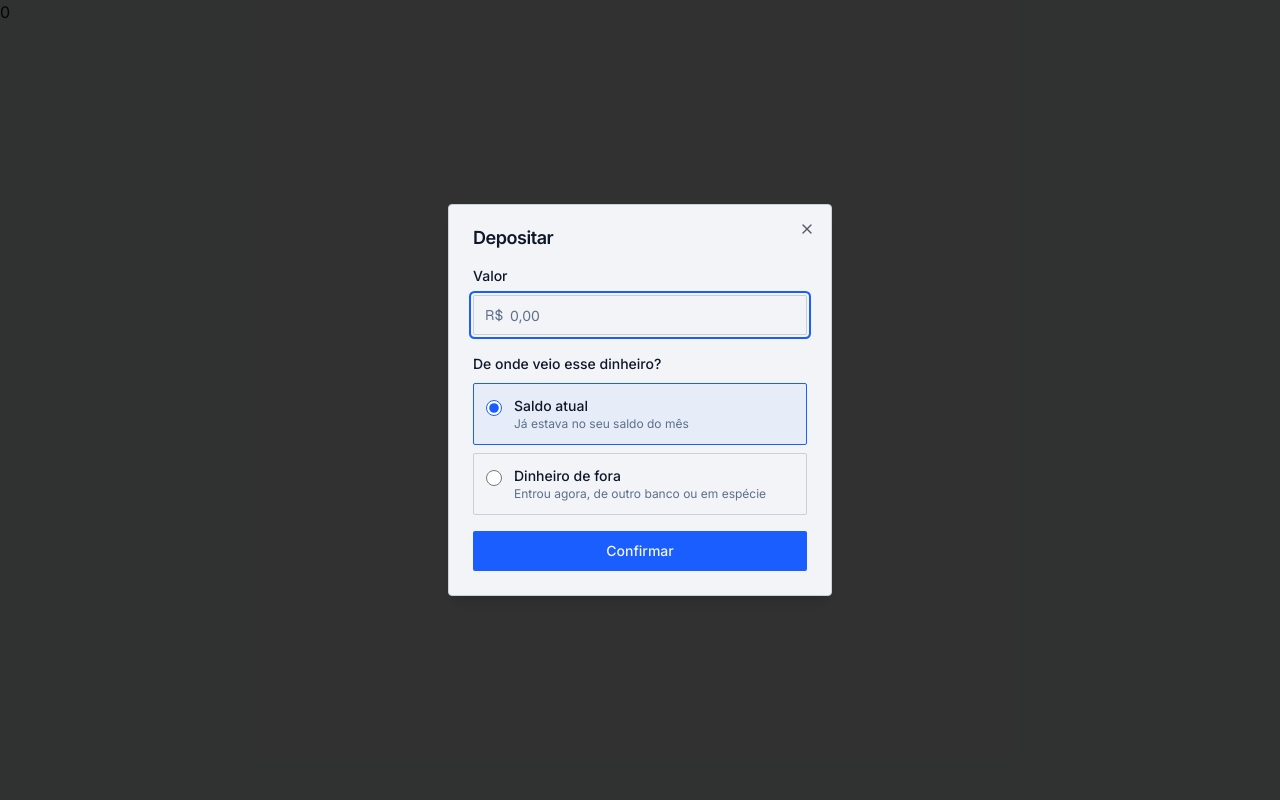
Test case: MovimentarCaixinhaModal › submeter deposito soma ao valorGuardado da caixinha
In the field labelled "Valor": (640, 315) 473,295 -> 807,335, type "5000"
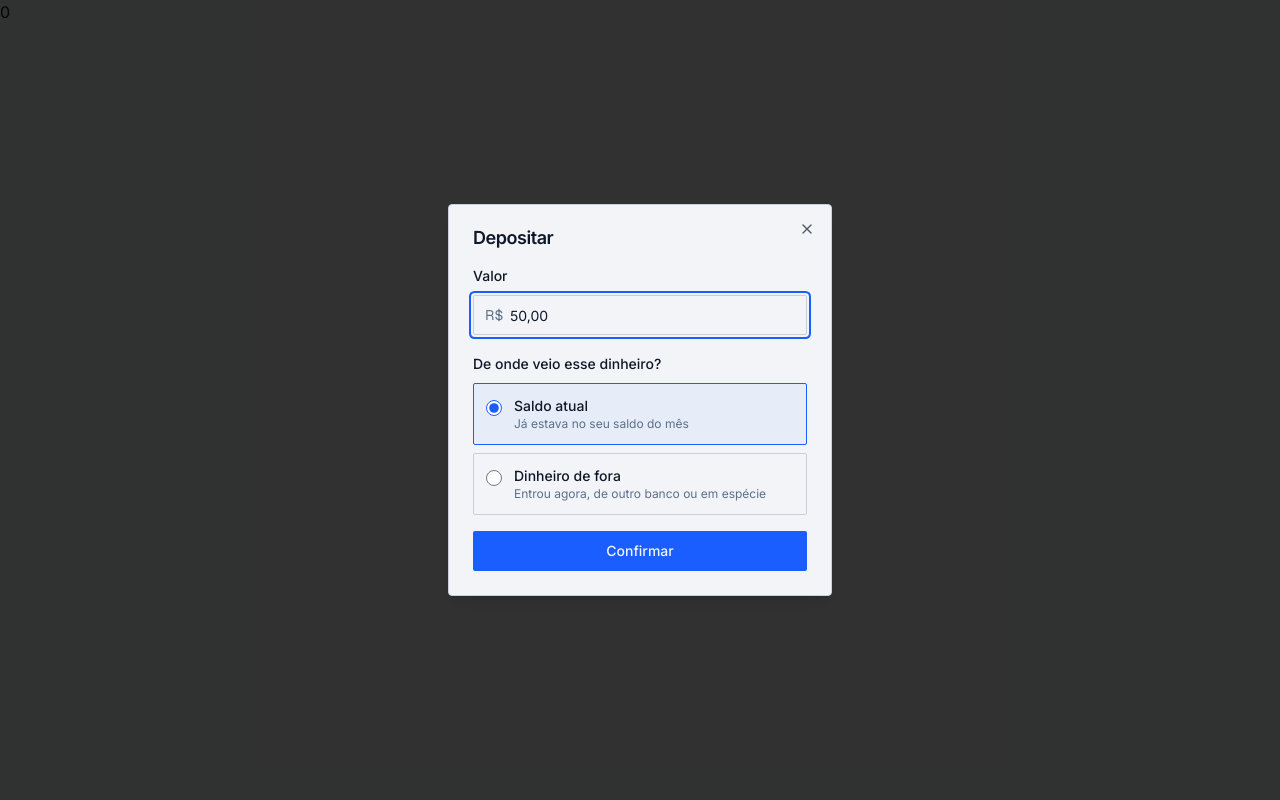
Click the button "Confirmar": (640, 551) 473,531 -> 807,571
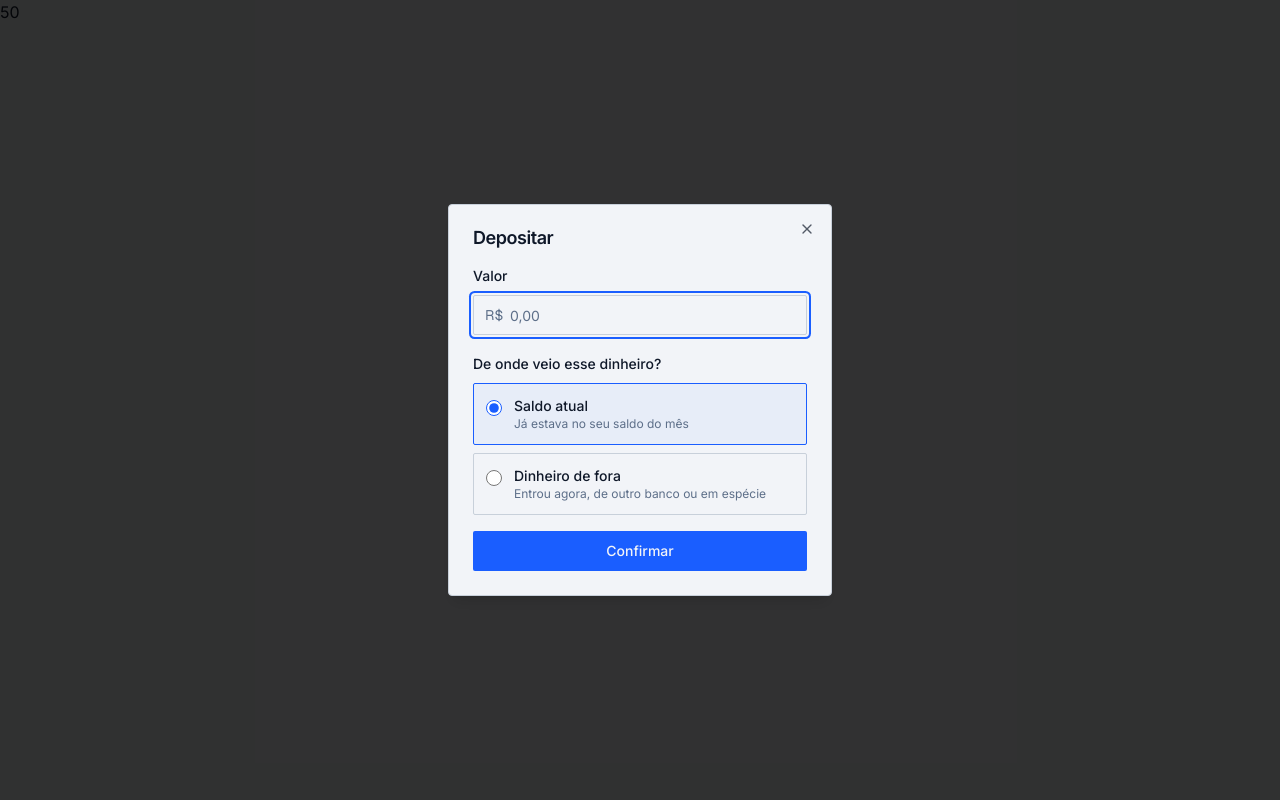
Expected: the text with test id "valor-guardado" reads "50", 0,2 -> 20,22
